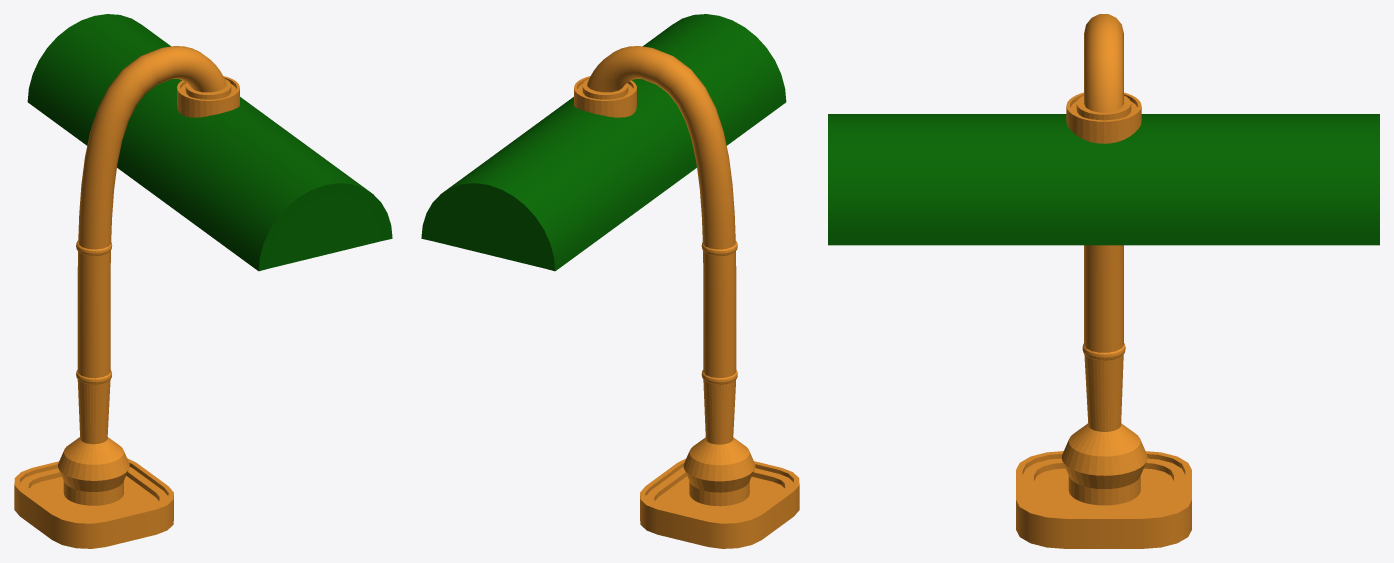
File: Lamp.fbx
The picture shows the model from 3 angles, left to right: view 1: azimuth 30°, elevation 25°; view 2: azimuth 150°, elevation 25°; view 3: azimuth 270°, elevation 25°; orthographic projection. The views are drawn at different scales.
Parts seen in each view (by area): view 1: Cylinder, BezierCurve, BezierCurve.001; view 2: Cylinder, BezierCurve, BezierCurve.001; view 3: Cylinder, BezierCurve, BezierCurve.001.
Boxes of the visible parts, left/top/right/bottom form: Cylinder: left=27, top=14, right=392, bottom=271; BezierCurve: left=14, top=46, right=239, bottom=548; BezierCurve.001: left=58, top=240, right=129, bottom=505; Cylinder: left=421, top=14, right=786, bottom=271; BezierCurve: left=574, top=46, right=799, bottom=548; BezierCurve.001: left=683, top=241, right=755, bottom=506; Cylinder: left=828, top=114, right=1379, bottom=245; BezierCurve: left=1016, top=14, right=1191, bottom=548; BezierCurve.001: left=1061, top=343, right=1147, bottom=505.
Size of the model in its own units: 214 by 379 by 355.
